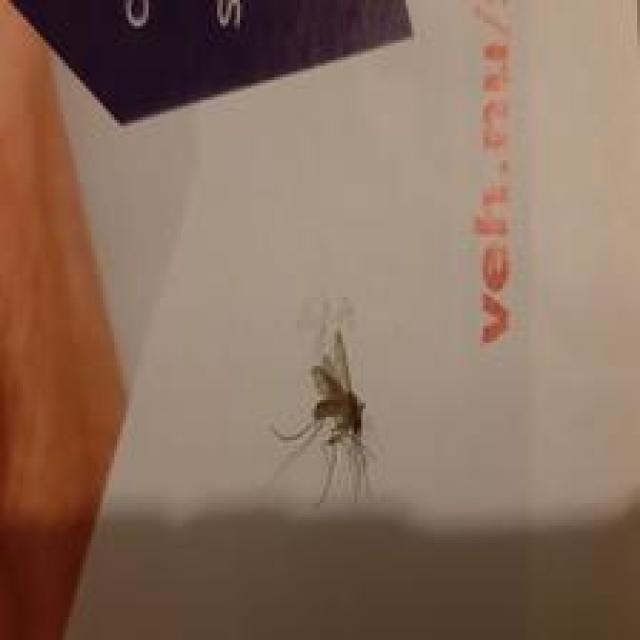Culex: (267, 324, 379, 507)
